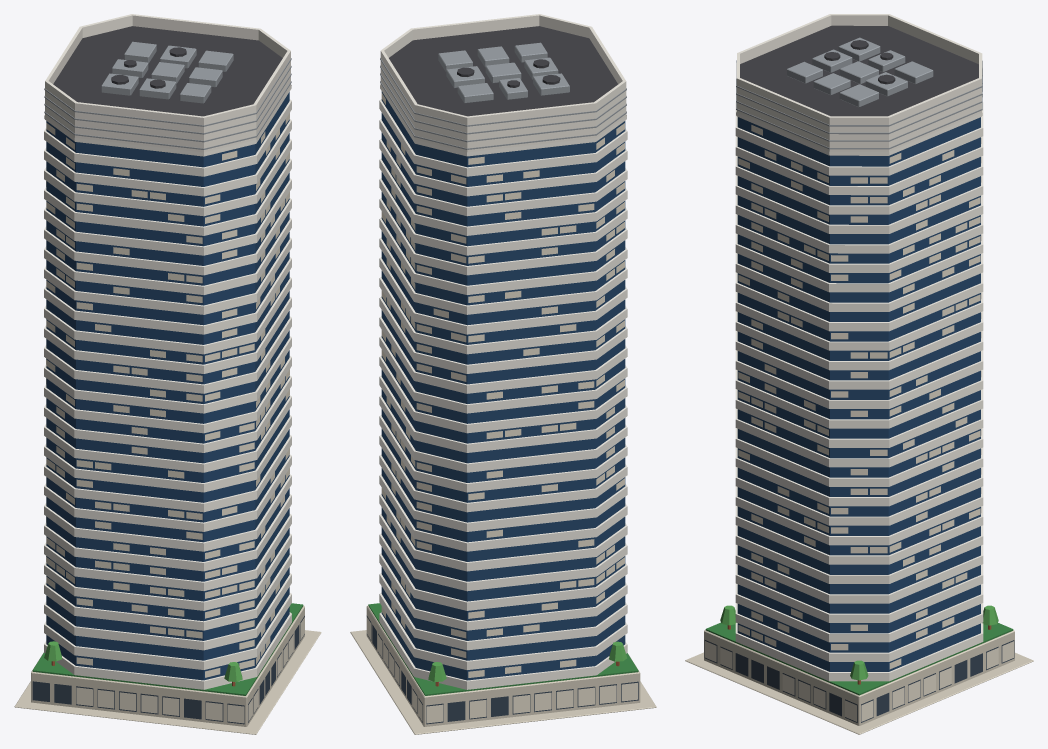
The model's file is 595-market-street.glb.
The picture shows the model from 3 angles, left to right: view 1: azimuth 30°, elevation 25°; view 2: azimuth 150°, elevation 25°; view 3: azimuth 270°, elevation 25°; orthographic projection.
Visible parts, largest first — view 1: 595-market-street_body, 595-market-street_night_glow; view 2: 595-market-street_body, 595-market-street_night_glow; view 3: 595-market-street_body, 595-market-street_night_glow.
Part boxes in pixels (left/top/right/bottom): 595-market-street_body: left=14, top=14, right=321, bottom=734; 595-market-street_night_glow: left=44, top=85, right=304, bottom=723; 595-market-street_body: left=350, top=14, right=656, bottom=734; 595-market-street_night_glow: left=366, top=84, right=637, bottom=723; 595-market-street_body: left=685, top=14, right=1033, bottom=734; 595-market-street_night_glow: left=705, top=94, right=1013, bottom=721.
Bounding box in the file's own units: 66.33 × 125 × 66.33.
